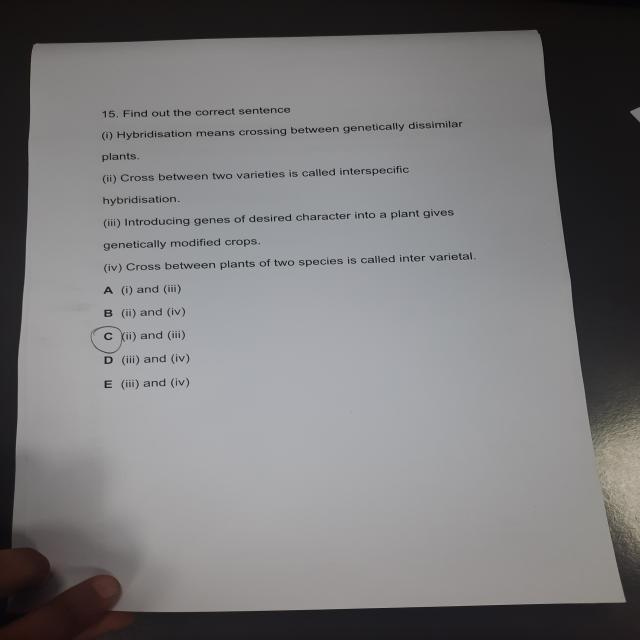C: (86, 326, 130, 356)
